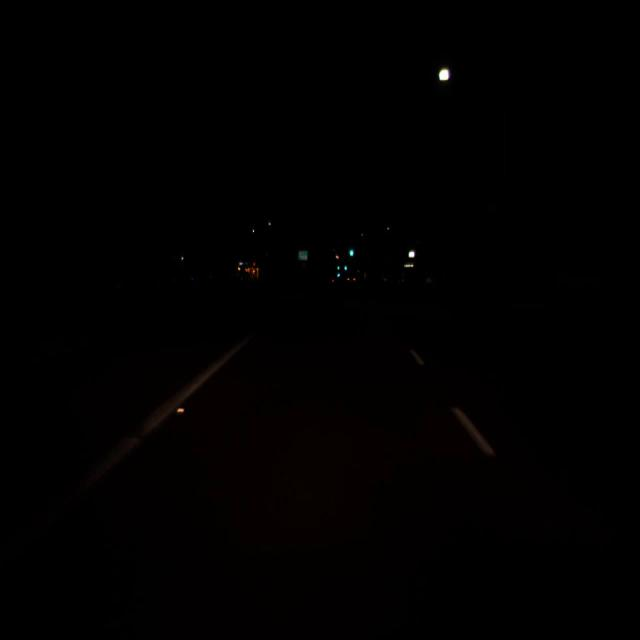go: (350, 251, 353, 255)
go traffic light: (348, 244, 354, 258)
